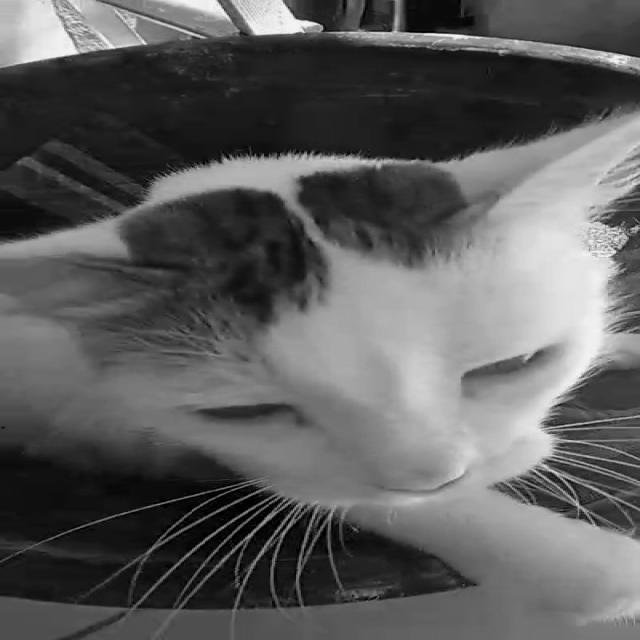Simba: (4, 60, 638, 640)
